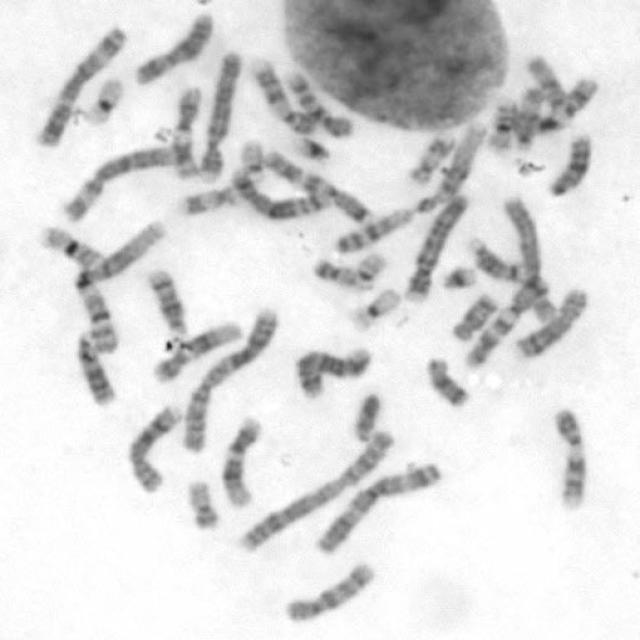A1: (331, 119, 492, 257), (69, 215, 171, 357)
A2: (233, 425, 398, 556), (176, 302, 280, 455)
A3: (310, 458, 444, 556), (31, 22, 130, 148)
B4: (398, 190, 470, 304), (194, 44, 244, 184)
B5: (225, 165, 332, 221), (290, 341, 375, 399)
C10: (277, 555, 379, 625), (282, 67, 355, 138)
C11: (507, 73, 601, 137), (170, 84, 203, 180)
C12: (146, 315, 244, 385), (216, 413, 265, 510)
C6: (56, 140, 182, 223), (497, 190, 558, 323)
C7: (258, 143, 376, 226), (459, 270, 554, 366)
C8: (510, 282, 591, 362), (122, 400, 184, 496)
C9: (246, 52, 320, 135), (547, 404, 590, 512)
D13: (70, 327, 118, 407), (541, 129, 593, 199)
D14: (142, 262, 189, 336), (463, 234, 530, 284)
D15: (521, 53, 567, 112), (511, 82, 547, 150)
E16: (34, 220, 104, 271), (482, 97, 518, 155)
E17: (403, 129, 458, 187), (176, 179, 243, 217)
E18: (446, 289, 501, 343), (422, 352, 473, 410)
F19: (76, 69, 126, 128), (345, 284, 402, 334)
F20: (182, 475, 222, 533), (309, 254, 355, 288)
G21: (287, 132, 334, 164), (436, 259, 480, 291)
G22: (349, 248, 389, 292), (234, 134, 268, 182)
X: (128, 6, 216, 86)
Y: (348, 387, 384, 440)
